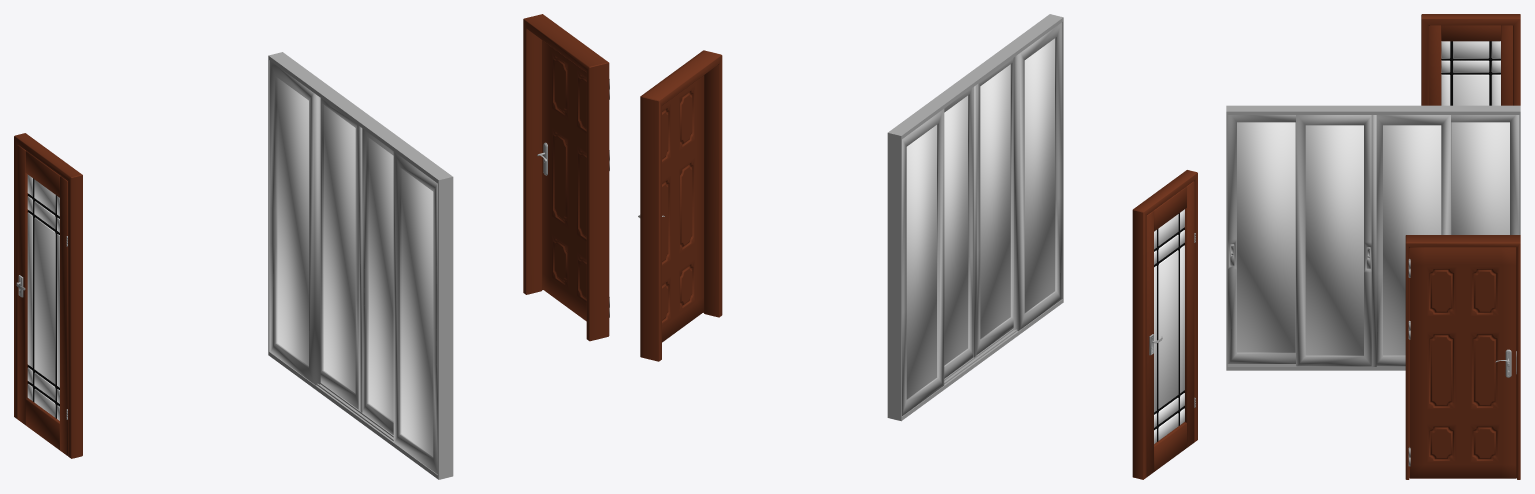
File: DOOOORS.fbx
The picture shows the model from 3 angles, left to right: view 1: azimuth 30°, elevation 25°; view 2: azimuth 150°, elevation 25°; view 3: azimuth 270°, elevation 25°; orthographic projection. The views are drawn at different scales.
Parts seen in each view (by area): view 1: AniPart.002, AniPart.003, AniPart.004, AniPart.001, AniPart.005; view 2: AniPart.002, AniPart.003, AniPart.004, AniPart.001, AniPart.005; view 3: AniPart.002, AniPart.001, AniPart.003, AniPart.004, AniPart.005.
Part boxes in pixels (x1,y1,x2,y2): AniPart.002: [268, 52, 453, 479]; AniPart.003: [16, 144, 82, 458]; AniPart.004: [523, 14, 609, 340]; AniPart.001: [526, 28, 609, 341]; AniPart.005: [14, 133, 82, 458]; AniPart.002: [887, 14, 1063, 421]; AniPart.003: [1133, 180, 1195, 479]; AniPart.004: [640, 50, 722, 361]; AniPart.001: [638, 64, 719, 361]; AniPart.005: [1132, 170, 1197, 479]; AniPart.002: [1226, 105, 1520, 370]; AniPart.001: [1405, 235, 1520, 479]; AniPart.003: [1421, 14, 1520, 105]; AniPart.004: [1405, 235, 1520, 479]; AniPart.005: [1421, 14, 1520, 105].
Size of the model in its own units: 428 by 225 by 232.
